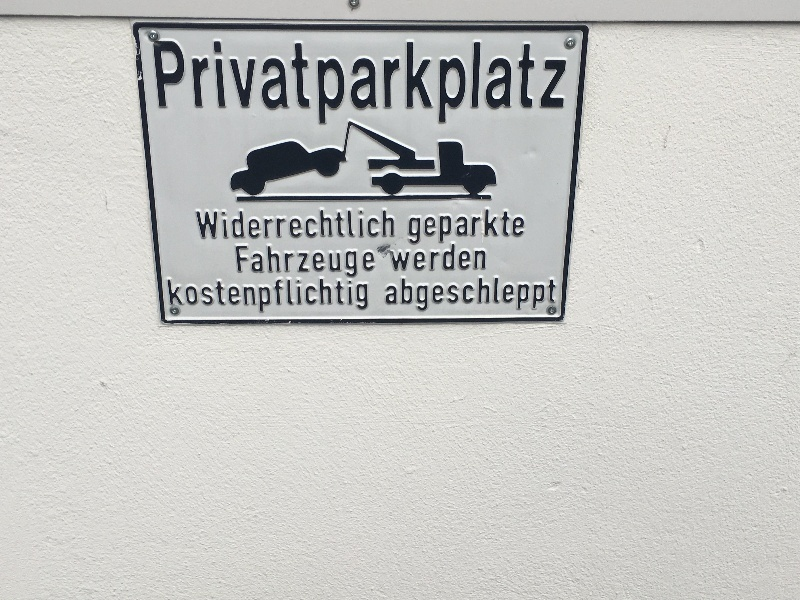text: (161, 36, 176, 136), (177, 36, 192, 136), (193, 36, 208, 136), (209, 36, 224, 136), (225, 36, 240, 136), (241, 36, 256, 136), (257, 36, 272, 136), (273, 36, 288, 136), (289, 36, 304, 136), (305, 36, 320, 136), (321, 36, 336, 136), (337, 36, 352, 136), (353, 36, 368, 136), (369, 36, 384, 136), (385, 36, 400, 136), (401, 36, 416, 136), (417, 36, 432, 136), (433, 36, 448, 136), (449, 36, 464, 136), (465, 36, 480, 136), (481, 36, 496, 136), (497, 36, 512, 136), (513, 36, 528, 136), (529, 36, 544, 136), (545, 36, 560, 136), (150, 36, 160, 136), (561, 36, 570, 136), (417, 201, 432, 246), (433, 201, 448, 246), (449, 201, 464, 246), (465, 201, 480, 246), (481, 201, 496, 246), (497, 201, 512, 246), (385, 270, 400, 312), (401, 270, 416, 312), (417, 270, 432, 312), (433, 270, 448, 312), (449, 270, 464, 312), (465, 270, 480, 312), (481, 270, 496, 312), (497, 270, 512, 312), (513, 270, 528, 312), (529, 270, 544, 312), (177, 275, 192, 316), (193, 275, 208, 316), (209, 275, 224, 316), (225, 275, 240, 316), (241, 275, 256, 316), (257, 275, 272, 316), (273, 275, 288, 316), (289, 275, 304, 316), (305, 275, 320, 316), (321, 275, 336, 316), (337, 275, 352, 316), (353, 275, 368, 316), (513, 201, 526, 246), (241, 242, 256, 279), (257, 242, 272, 279), (273, 242, 288, 279), (289, 242, 304, 279), (305, 242, 320, 279), (321, 242, 336, 279), (337, 242, 352, 279), (353, 242, 368, 279), (401, 237, 416, 273), (417, 237, 432, 273), (433, 237, 448, 273), (449, 237, 464, 273), (465, 237, 480, 273), (209, 206, 224, 240), (225, 206, 240, 240), (241, 206, 256, 240), (257, 206, 272, 240), (273, 206, 288, 240), (289, 206, 304, 240), (305, 206, 320, 240), (321, 206, 336, 240), (337, 206, 352, 240), (353, 206, 368, 240), (369, 206, 384, 240), (545, 270, 557, 312), (194, 206, 208, 240), (387, 237, 400, 273), (166, 275, 176, 316), (407, 201, 416, 246), (385, 206, 395, 240), (481, 237, 489, 273), (233, 242, 240, 279), (369, 242, 376, 279), (369, 275, 370, 316)
